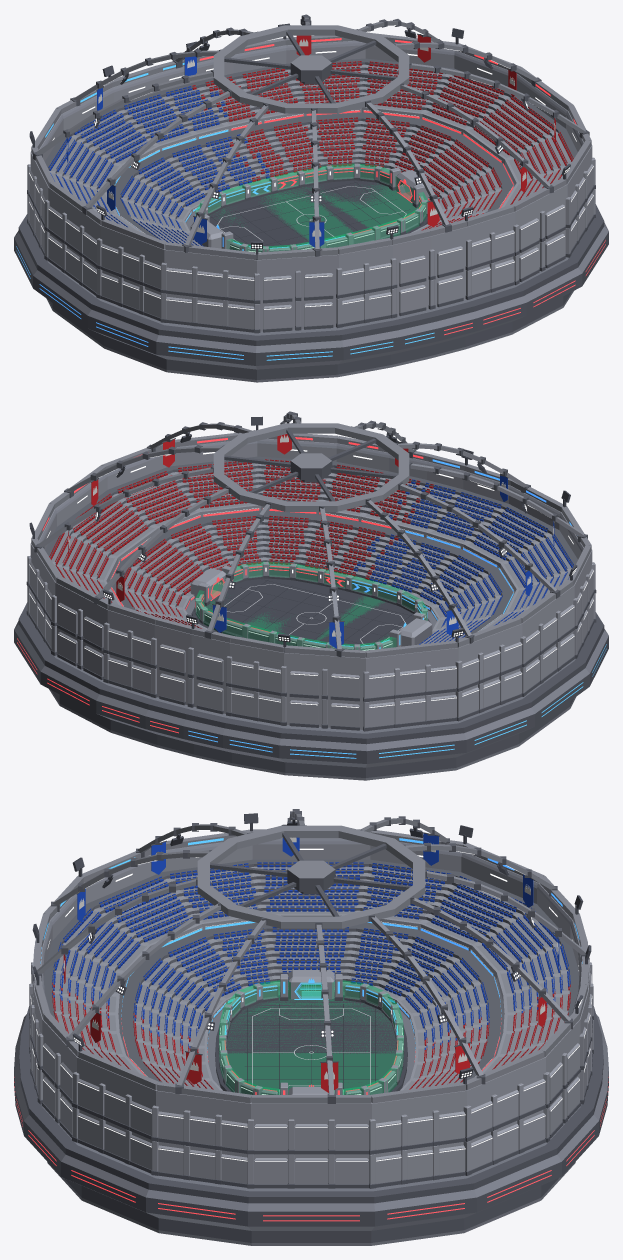
The model's file is KickdomArena_NoFans.glb.
3 views of the same model, one above another, from view 1: azimuth 30°, elevation 25°; view 2: azimuth 150°, elevation 25°; view 3: azimuth 270°, elevation 25° (orthographic). The views are drawn at different scales.
Parts seen in each view (by area): view 1: Stands_Bowl, Base_Plinth, Roof_Truss, Rim_Parapet, Arena_FloorSlab, Stands_Aisles, COL_BarrierWall, COL_PitchFloor, Base_NeonStrips, Stands_NeonRibbons, Goal_Red, Facade_Panel_035 (+28 smaller); view 2: Stands_Bowl, Base_Plinth, Roof_Truss, Rim_Parapet, Arena_FloorSlab, Stands_Aisles, COL_BarrierWall, Base_NeonStrips, Stands_NeonRibbons, Goal_Blue, Goal_Red, Facade_Panel_017 (+28 smaller); view 3: Stands_Bowl, Base_Plinth, Roof_Truss, Rim_Parapet, Arena_FloorSlab, Stands_Aisles, COL_PitchFloor, COL_BarrierWall, Base_NeonStrips, Goal_Blue, Stands_NeonRibbons, Facade_Panel_001 (+30 smaller).
Boxes of the visible parts, left/top/right/bottom form: Stands_Bowl: left=45, top=58, right=577, bottom=246; Base_Plinth: left=14, top=204, right=608, bottom=382; Roof_Truss: left=31, top=14, right=591, bottom=259; Rim_Parapet: left=30, top=40, right=592, bottom=331; Arena_FloorSlab: left=192, top=180, right=427, bottom=248; Stands_Aisles: left=49, top=64, right=567, bottom=233; COL_BarrierWall: left=195, top=164, right=427, bottom=251; COL_PitchFloor: left=222, top=185, right=417, bottom=240; Base_NeonStrips: left=16, top=240, right=605, bottom=360; Stands_NeonRibbons: left=114, top=110, right=513, bottom=233; Goal_Red: left=389, top=167, right=432, bottom=207; Facade_Panel_035: left=304, top=302, right=333, bottom=329; Stands_Bowl: left=45, top=456, right=577, bottom=644; Base_Plinth: left=14, top=599, right=608, bottom=780; Roof_Truss: left=31, top=411, right=591, bottom=657; Rim_Parapet: left=30, top=438, right=592, bottom=729; Arena_FloorSlab: left=191, top=578, right=430, bottom=646; Stands_Aisles: left=52, top=463, right=570, bottom=631; COL_BarrierWall: left=195, top=562, right=427, bottom=650; Base_NeonStrips: left=17, top=638, right=606, bottom=758; Stands_NeonRibbons: left=111, top=508, right=513, bottom=631; Goal_Blue: left=389, top=612, right=432, bottom=647; Goal_Red: left=190, top=565, right=233, bottom=605; Facade_Panel_017: left=289, top=700, right=318, bottom=727; Stands_Bowl: left=44, top=859, right=578, bottom=1090; Base_Plinth: left=14, top=991, right=608, bottom=1245; Roof_Truss: left=33, top=809, right=589, bottom=1103; Rim_Parapet: left=32, top=838, right=590, bottom=1182; Arena_FloorSlab: left=215, top=995, right=407, bottom=1094; Stands_Aisles: left=53, top=866, right=569, bottom=1081; COL_PitchFloor: left=228, top=1000, right=394, bottom=1088; COL_BarrierWall: left=219, top=980, right=403, bottom=1094; Base_NeonStrips: left=14, top=1077, right=608, bottom=1221; Goal_Blue: left=280, top=970, right=342, bottom=1000; Stands_NeonRibbons: left=121, top=921, right=501, bottom=1076; Facade_Panel_001: left=294, top=1158, right=328, bottom=1188.
Bounding box in the file's own units: 126 × 50.34 × 111.
